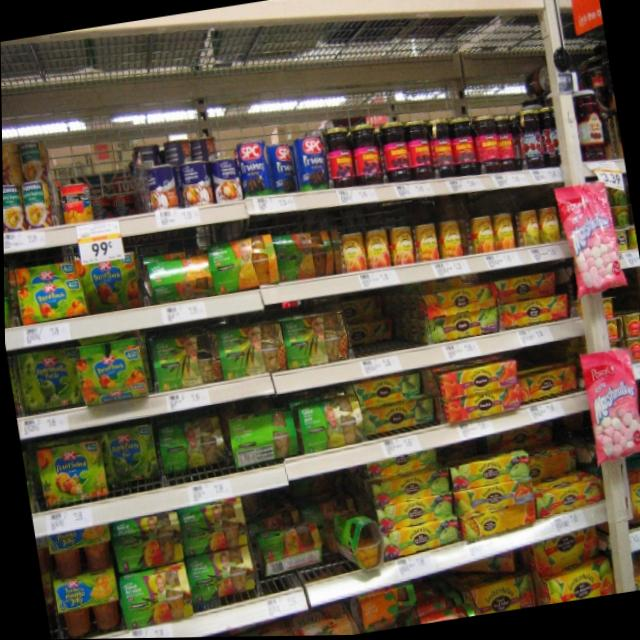q121: (73, 340, 152, 414), (33, 436, 108, 511), (12, 349, 83, 422), (13, 269, 90, 335), (100, 427, 164, 491)
